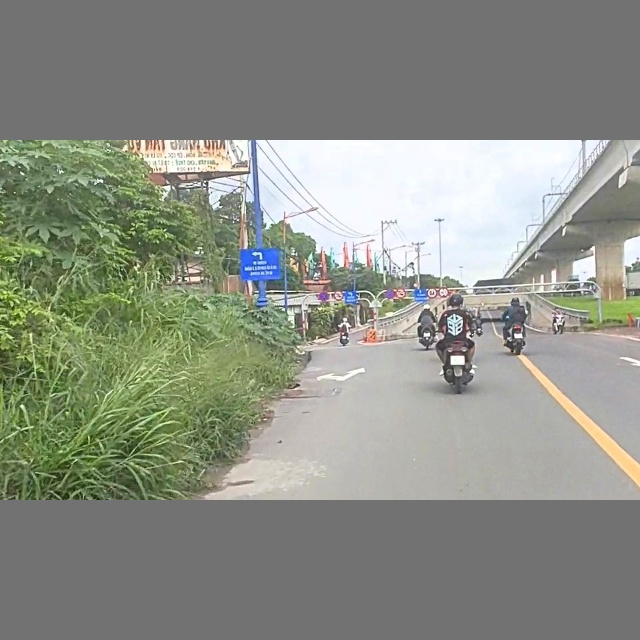P.107: (333, 291, 345, 301), (396, 289, 405, 299)
P.117*: (438, 287, 449, 297)
P.127*40: (427, 288, 437, 299)
P.130: (385, 289, 395, 299), (319, 291, 329, 301)
